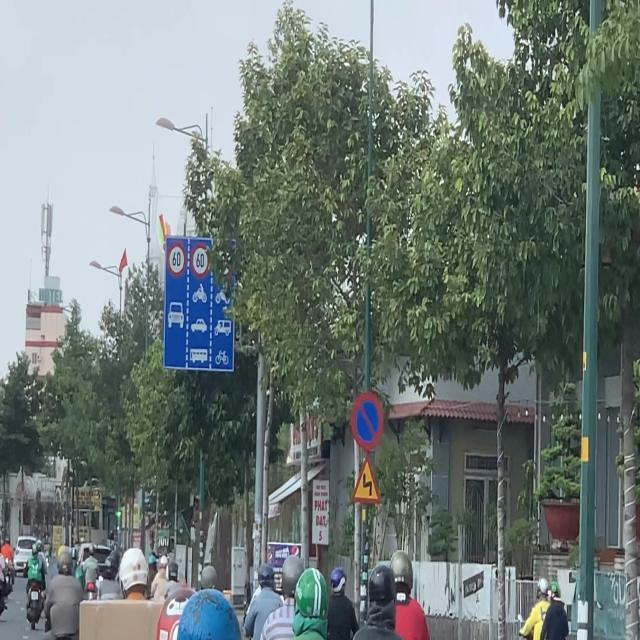Cam do: (351, 392, 384, 451)
Nguy hiem: (352, 455, 382, 504)
Toc do toi da: (166, 242, 186, 277), (191, 243, 210, 278)
